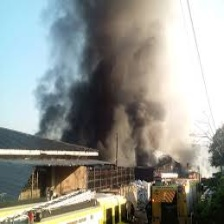smoke: (44, 3, 176, 146)
